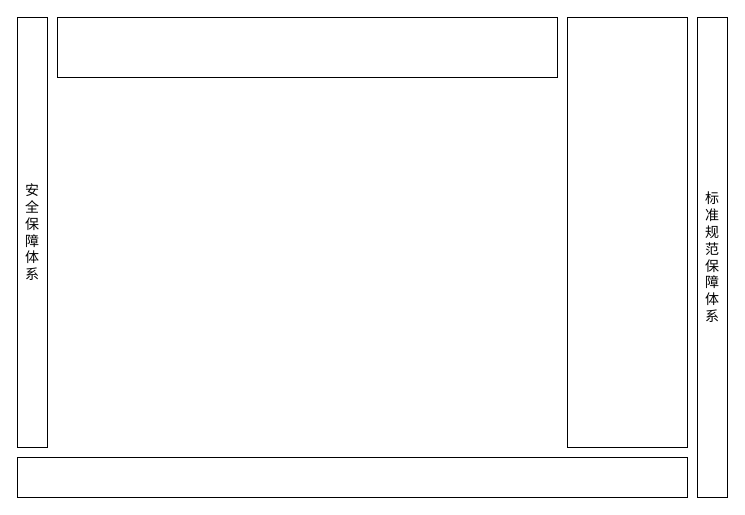
Some shapes in this 745 by 515 pixel diagram are drawn without their labels. Each missing label, with the centre of its shape:
"UI用户层" goes at point (307, 47).
"运维保障体系" goes at point (352, 477).
